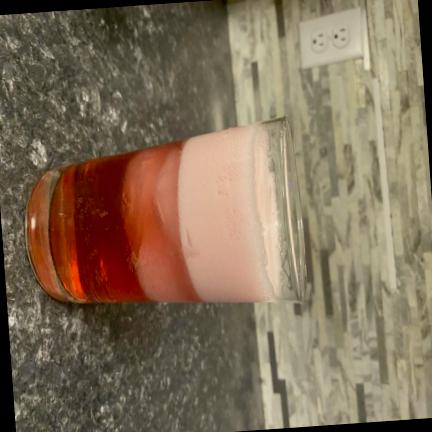container: (24, 117, 305, 303)
fluid: (27, 125, 269, 303)
fluid-surface: (252, 128, 279, 295)
